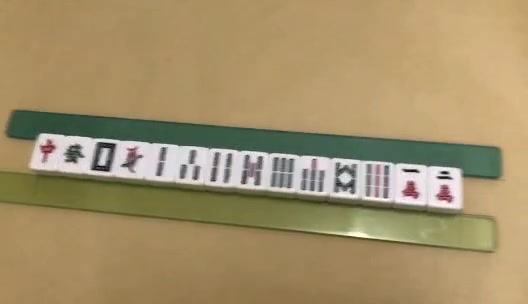1m: (399, 168, 420, 200)
1s: (120, 144, 145, 171)
2m: (437, 170, 454, 204)
2s: (155, 145, 168, 176)
3s: (180, 150, 200, 180)
4s: (210, 151, 232, 182)
5s: (241, 155, 265, 188)
5z: (88, 142, 115, 171)
6s: (270, 156, 295, 188)
6z: (63, 143, 85, 164)
7s: (300, 158, 327, 194)
7z: (39, 139, 55, 163)
8s: (333, 163, 357, 193)
9s: (365, 163, 390, 199)
